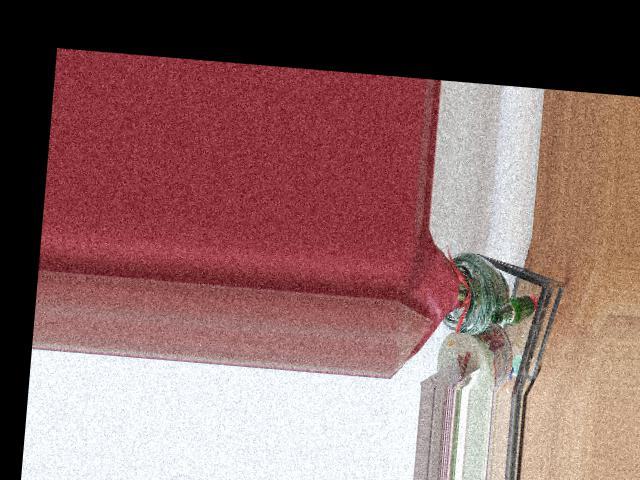beer: (490, 292, 535, 327)
